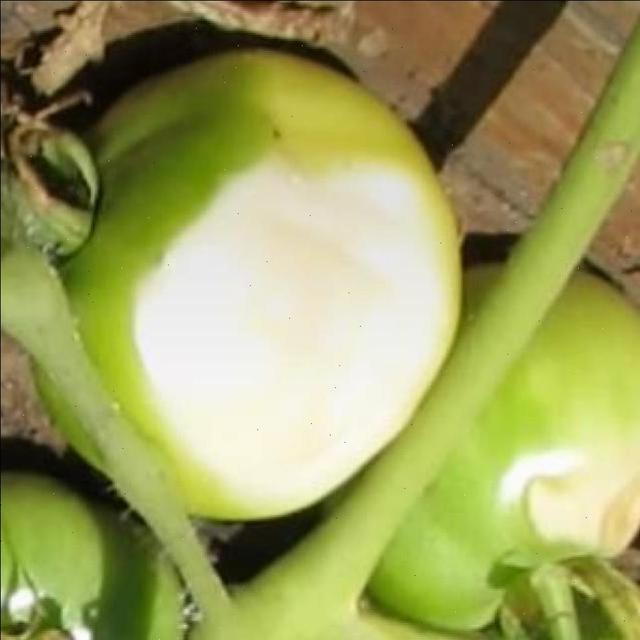Sunscald Fruit: (93, 104, 380, 326)
